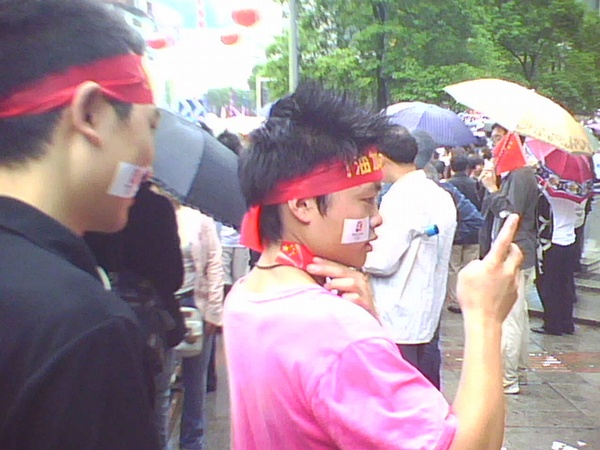face: (97, 81, 153, 235), (324, 180, 383, 267)
